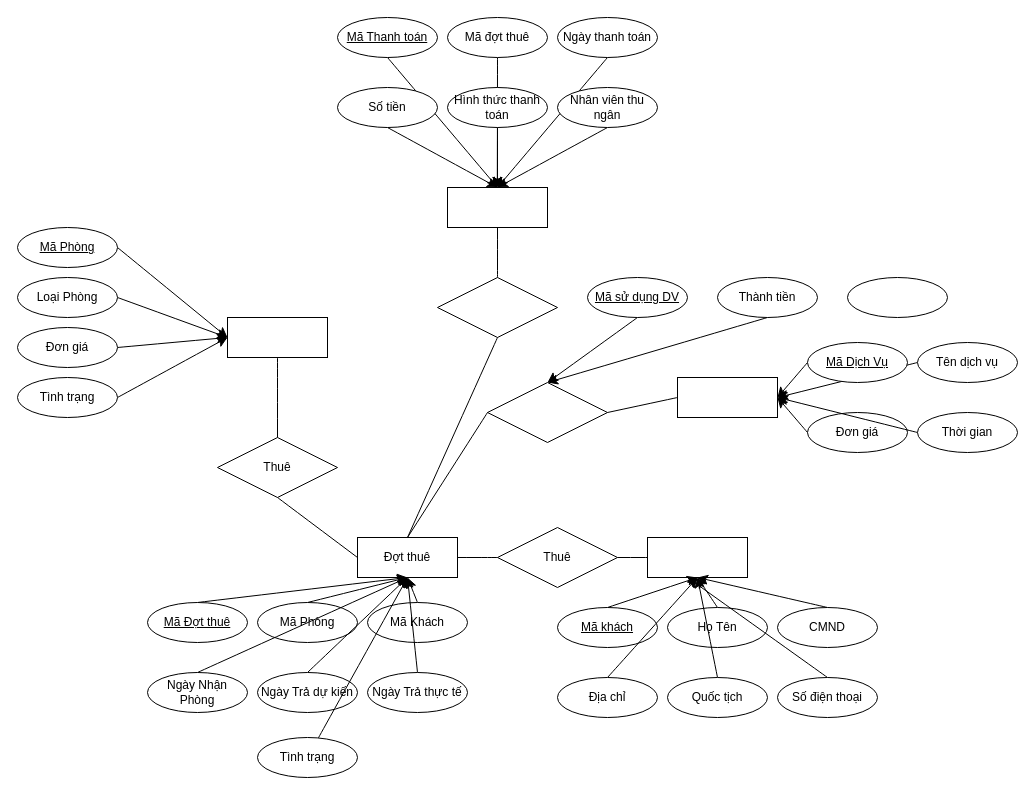
This 1035x795 diagram has some shape labels left out. Each missing label, with the centre of its shape:
"Dịch vụ" belongs at point (727, 397).
"Khách Trọ" belongs at point (697, 557).
"Phòng" belongs at point (277, 337).
"Số lượng" belongs at point (897, 297).
"Sử dụng dịch vụ" belongs at point (547, 412).
"Thanh toán" belongs at point (497, 207).
"Trả phí" belongs at point (497, 307).
